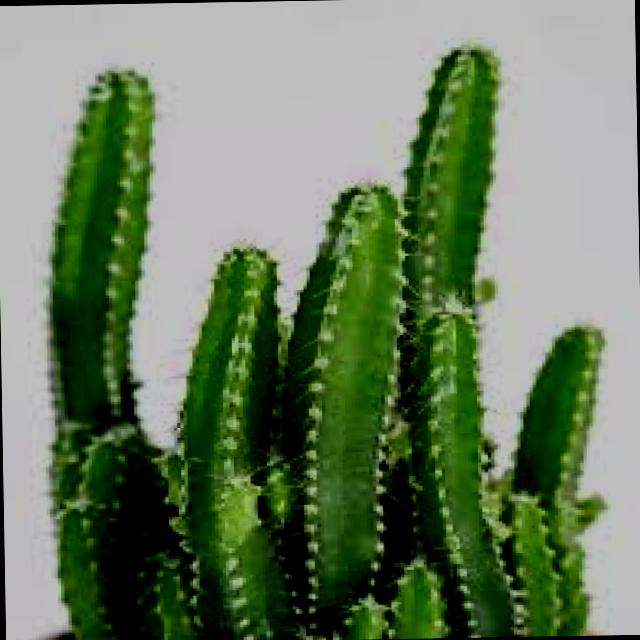cactus: (27, 27, 624, 640)
